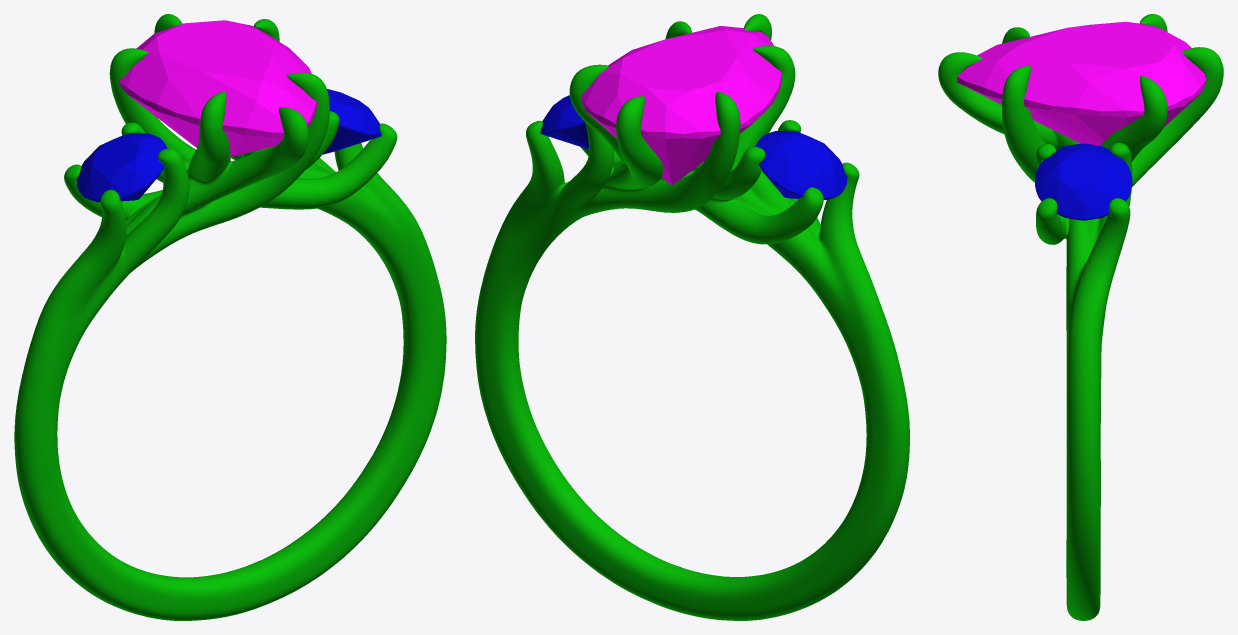
File: BE1D1421_PE_200ct_RENDER.glb
3 views of the same model, side by side, from view 1: azimuth 30°, elevation 25°; view 2: azimuth 150°, elevation 25°; view 3: azimuth 270°, elevation 25° (orthographic).
Parts seen in each view (by area): view 1: Metal 01, CS_Diamond_Pear, Diamond_Round_side.001, Diamond_Round_side; view 2: Metal 01, CS_Diamond_Pear, Diamond_Round_side.001, Diamond_Round_side; view 3: Metal 01, CS_Diamond_Pear, Diamond_Round_side.
Part boxes in pixels (left/top/right/bottom): Metal 01: left=14, top=14, right=446, bottom=620; CS_Diamond_Pear: left=119, top=20, right=316, bottom=156; Diamond_Round_side.001: left=76, top=133, right=167, bottom=202; Diamond_Round_side: left=323, top=89, right=381, bottom=154; Metal 01: left=475, top=14, right=909, bottom=620; CS_Diamond_Pear: left=581, top=26, right=781, bottom=185; Diamond_Round_side.001: left=755, top=131, right=847, bottom=199; Diamond_Round_side: left=540, top=95, right=588, bottom=149; Metal 01: left=938, top=14, right=1223, bottom=620; CS_Diamond_Pear: left=957, top=21, right=1206, bottom=145; Diamond_Round_side: left=1035, top=143, right=1132, bottom=220.
Size of the model in its own units: 20.12 by 25.01 by 11.72.
